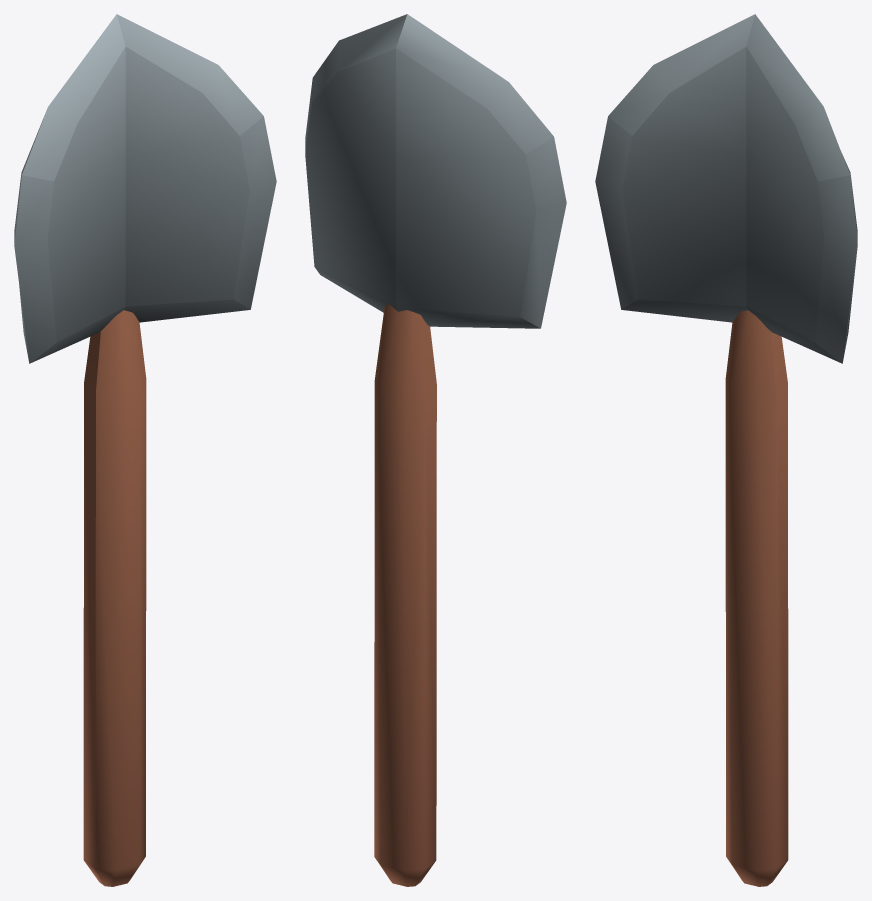
The model's file is shovel.glb.
The picture shows the model from 3 angles, left to right: view 1: azimuth 30°, elevation 25°; view 2: azimuth 150°, elevation 25°; view 3: azimuth 330°, elevation 25°; orthographic projection.
Visible parts, largest first — view 1: shovel; view 2: shovel; view 3: shovel.
Boxes of the visible parts, x1,y1,x2,y2 form: shovel: (14, 14, 276, 886); shovel: (305, 14, 566, 886); shovel: (595, 14, 857, 886).
Size of the model in its own units: 0.1267 by 0.403 by 0.0389.
Materials: 1 (1 with a texture image).
